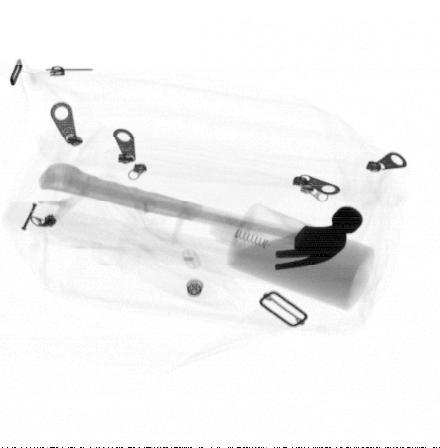Hammer: (37, 162, 363, 273)
